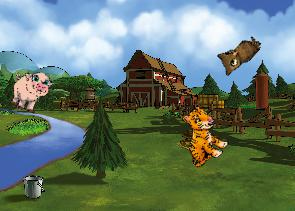owl: (211, 26, 263, 79)
pig: (5, 65, 55, 117)
tiger: (166, 102, 235, 172)
